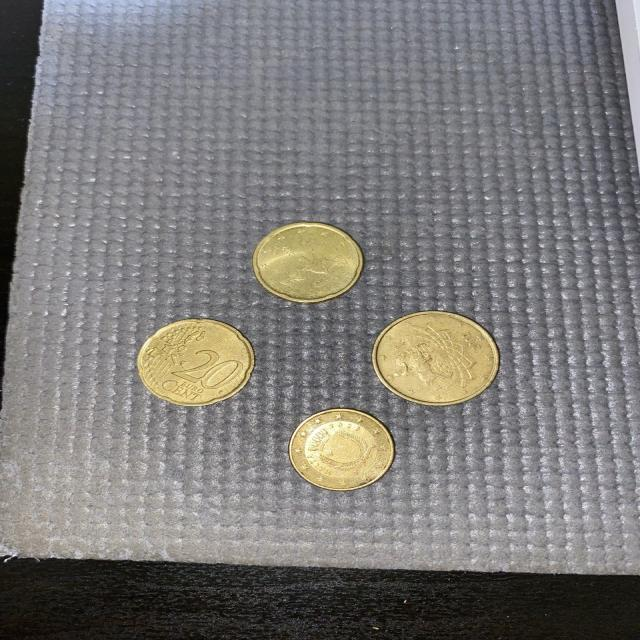10c: (288, 408, 396, 491)
20c: (136, 318, 256, 406), (252, 221, 366, 303)
50c: (371, 310, 500, 407)
